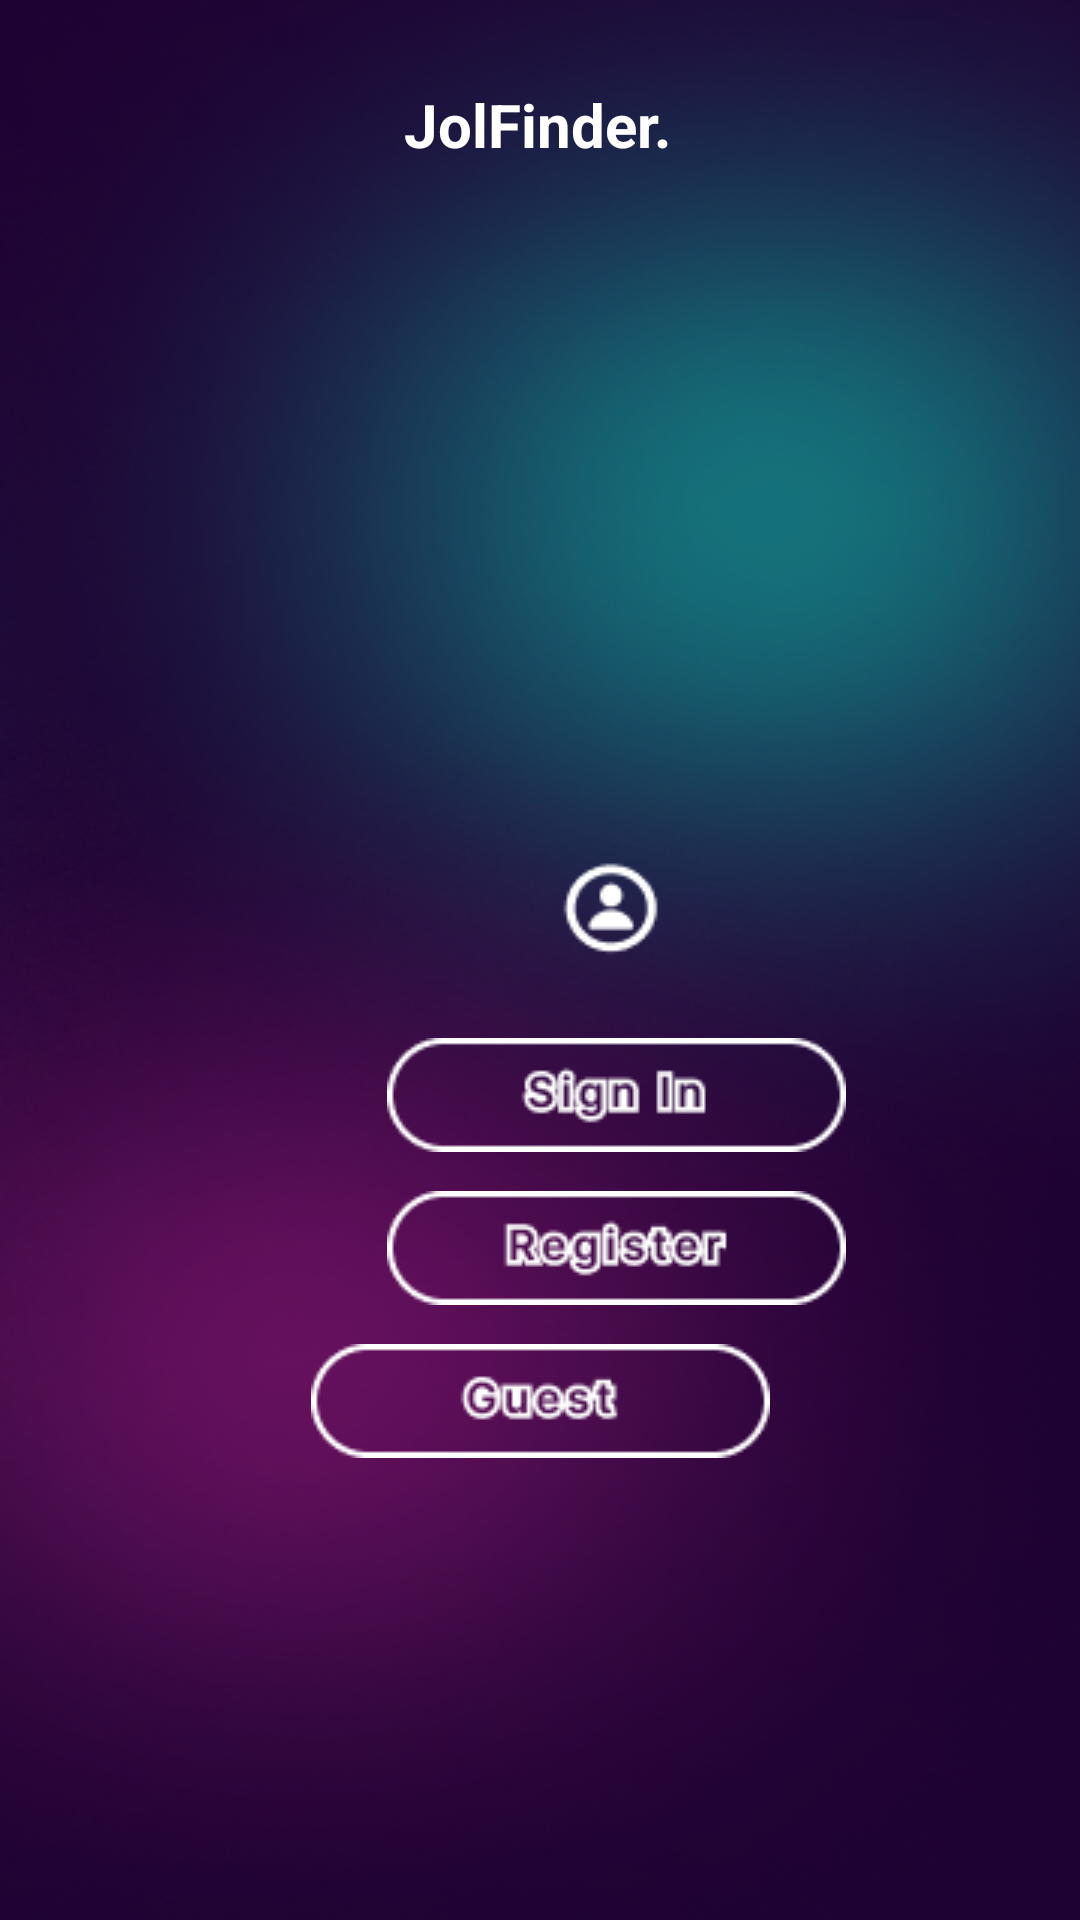

Where to tap for icons on this 1080x1920 app screen, as (x,y):
person profile: (610,897)
